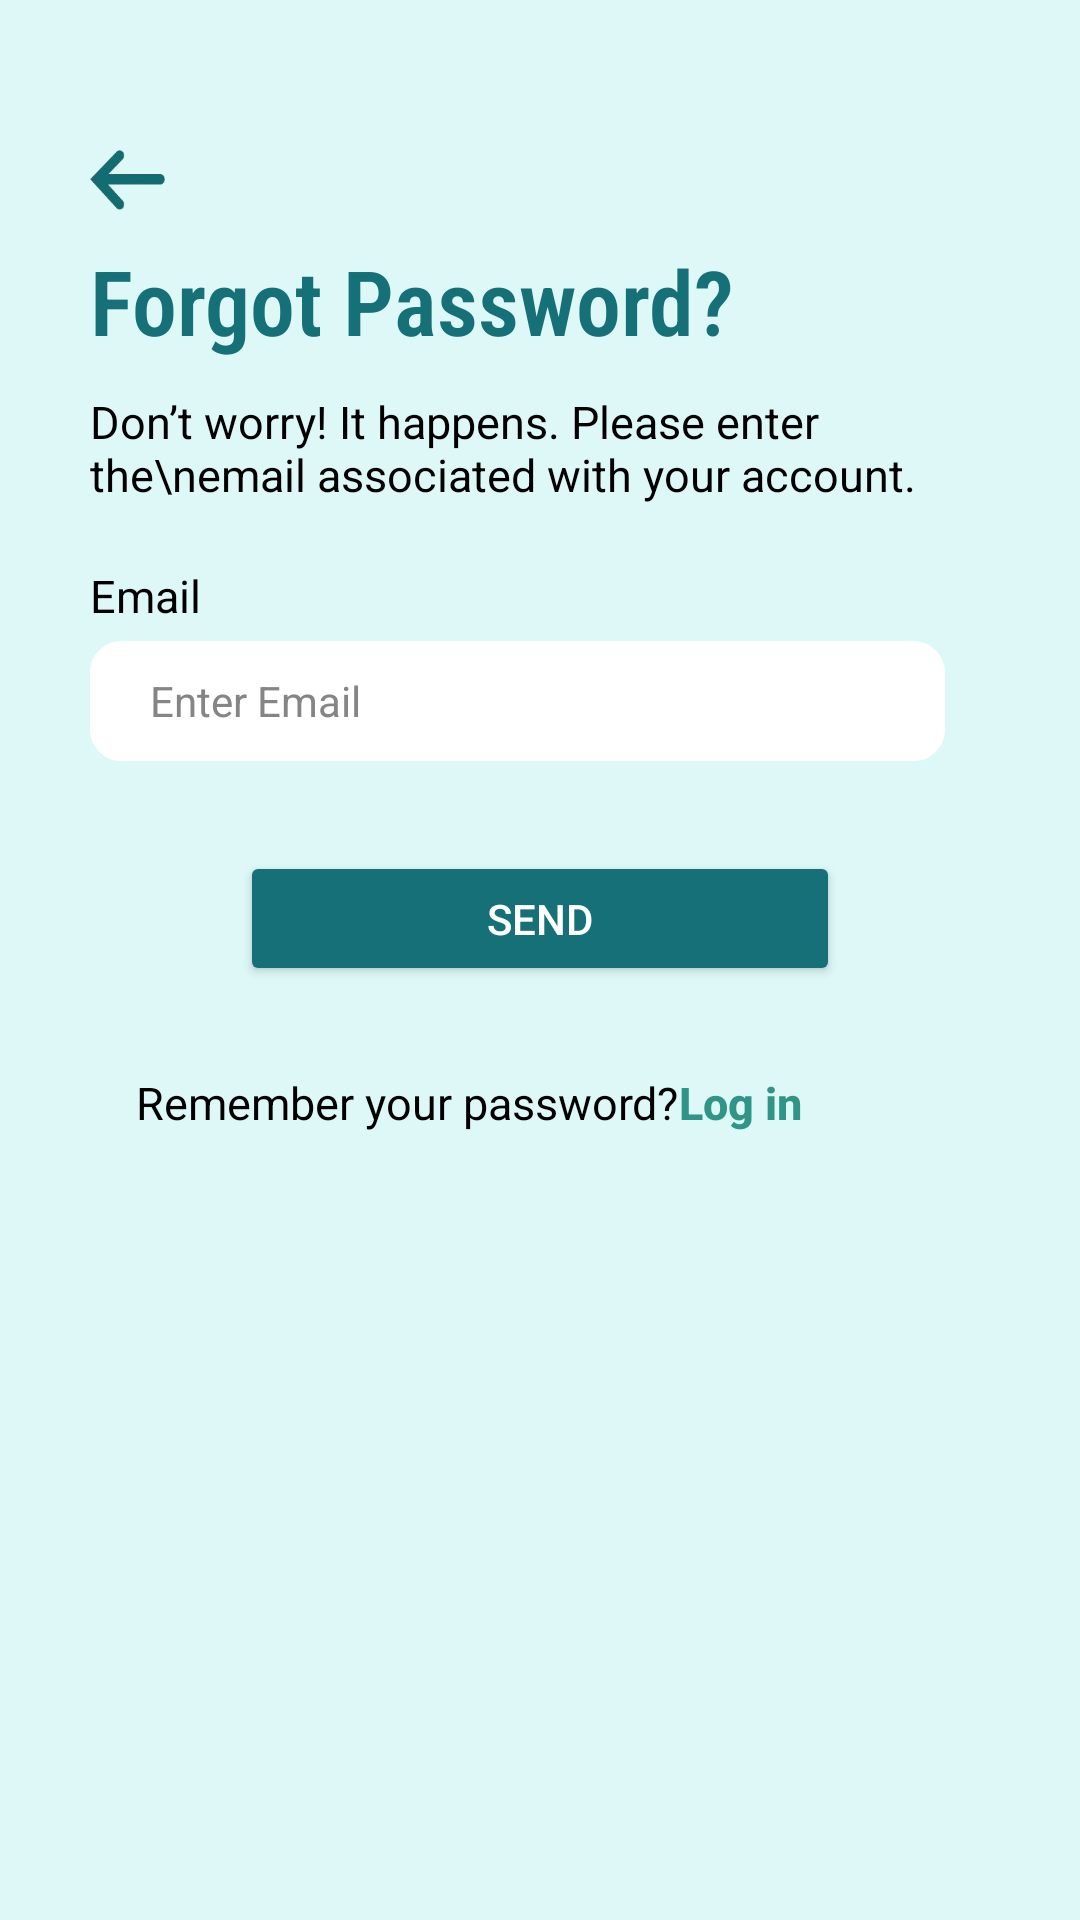

Screen size 1080 × 1920. Icon name, then its box in pixels as bbox(x1, y1, x2, y2):
back arrow: bbox(90, 150, 165, 210)
